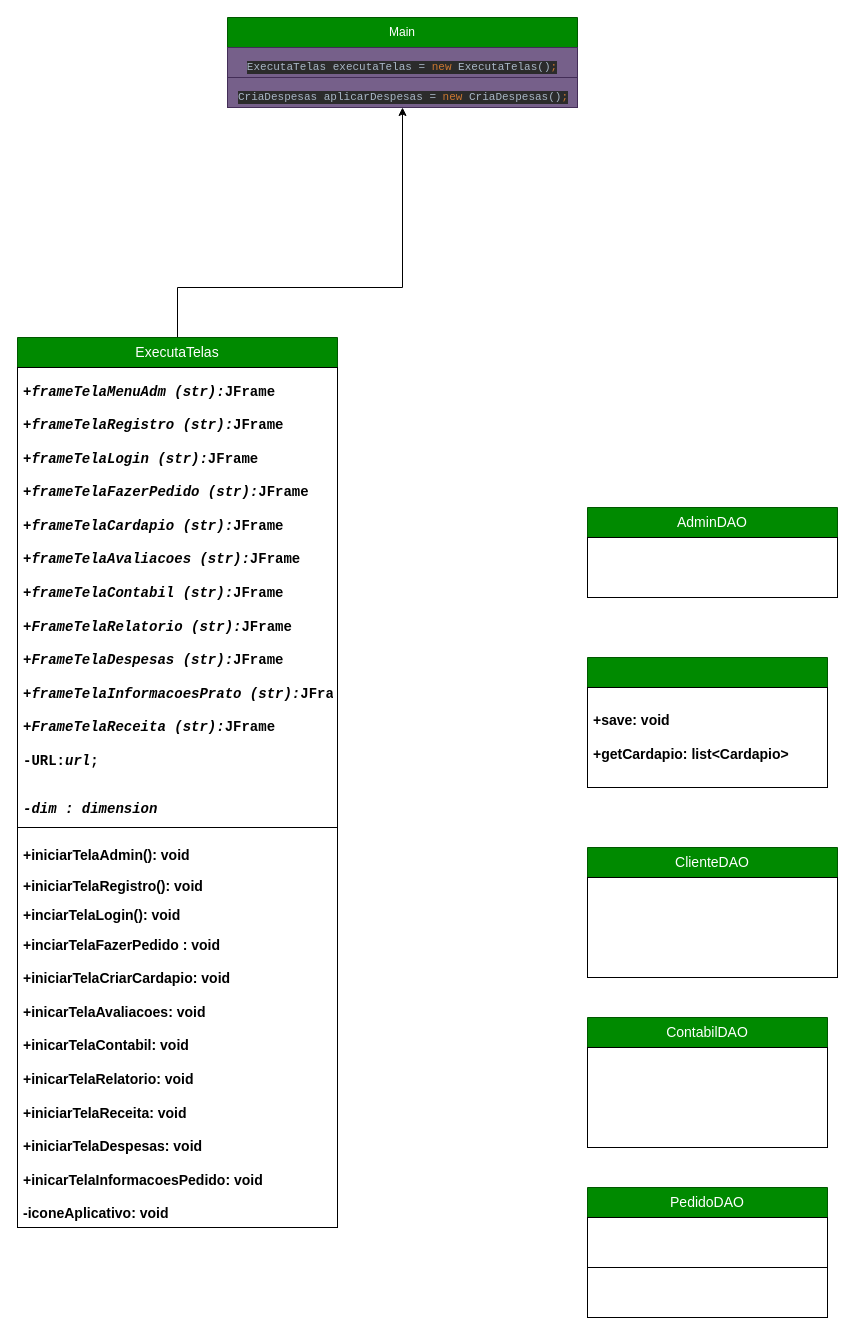
Some shapes in this 855 by 1335 pixel diagram are drawn without their labels. The shapes that lost their labels are listed below. From the top down, each one's box as (x1, y1, x2, y2) in pixels, then its label:
(586, 536, 838, 598): +getAdminPKG: list<AdminPKG>
(586, 656, 828, 788): CardapioDAO
(586, 876, 838, 978): +save: void +getClientes: list<Clientes>
(586, 1046, 828, 1148): +save: void +getRelatorio: list<contabilPKG>
(586, 1216, 828, 1268): +idClienteAtual: str
(586, 1266, 828, 1318): +save: void
